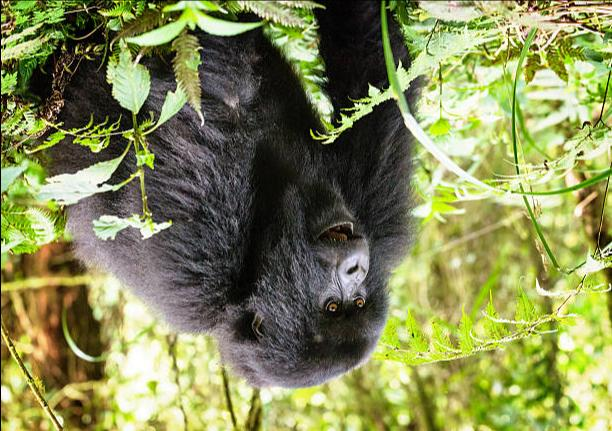goriile_montagne: (83, 19, 416, 385)
